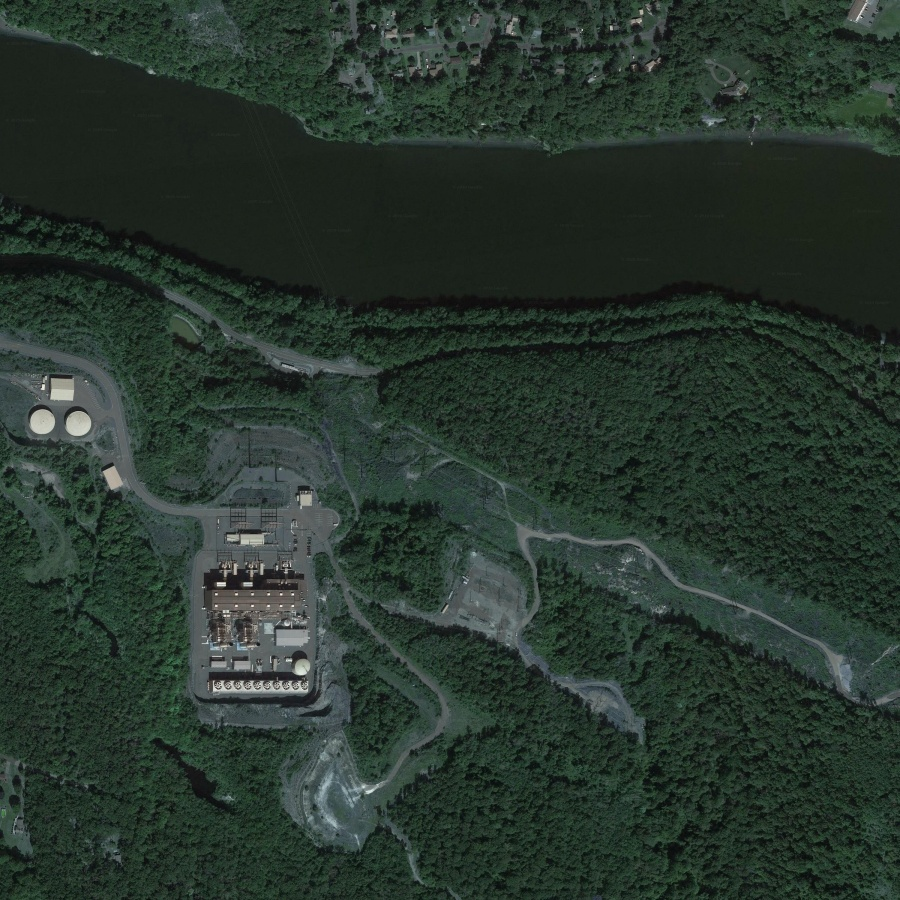PowerPlant: (195, 470, 341, 710)
